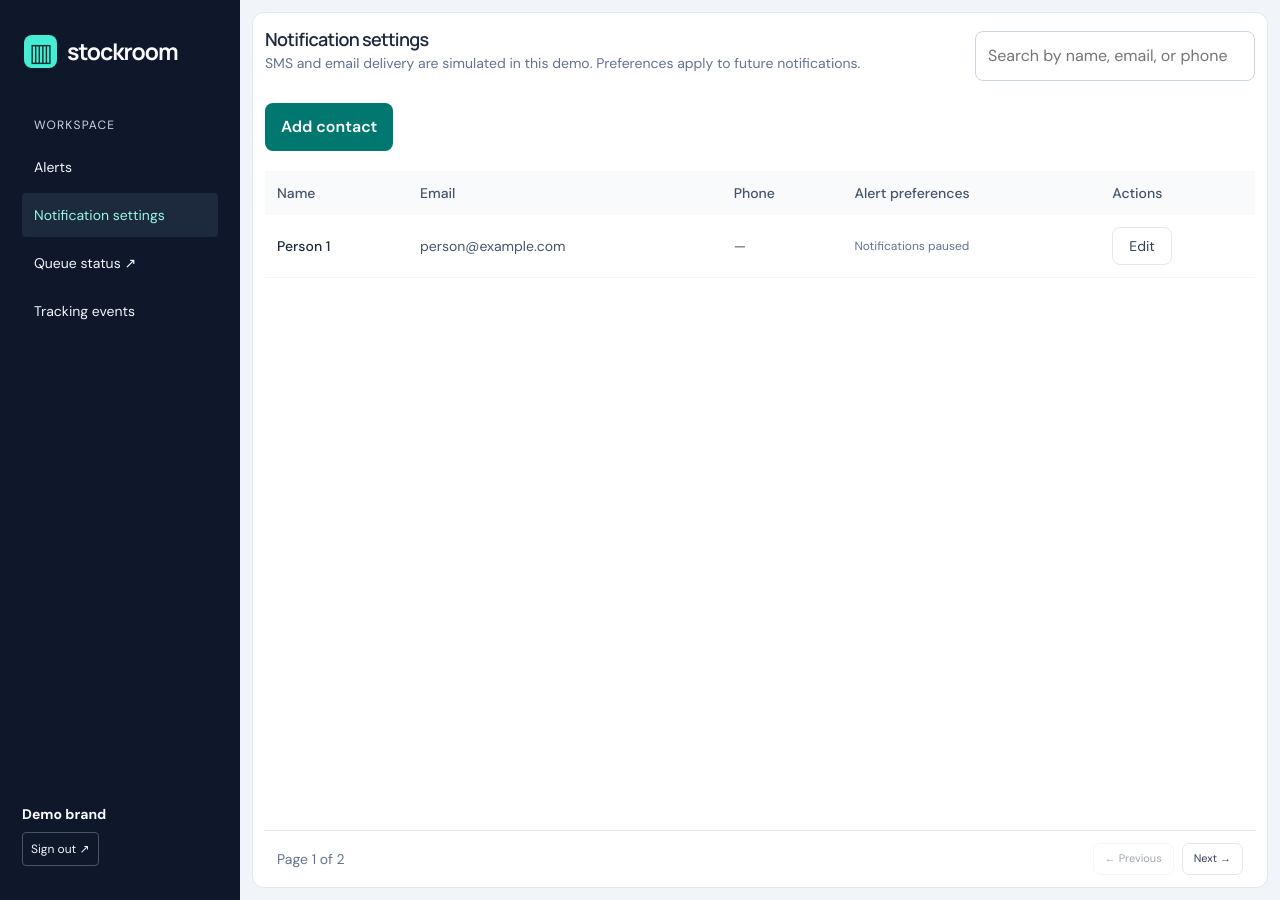
Test: debounces contact search for 500 ms, resets pagination, and clears the filter
Expected: the text "Person 1" is shown, x1=265 y1=215 x2=408 y2=278
Click the button "Next →" at (1212, 859), box x1=1182 y1=843 x2=1243 y2=875
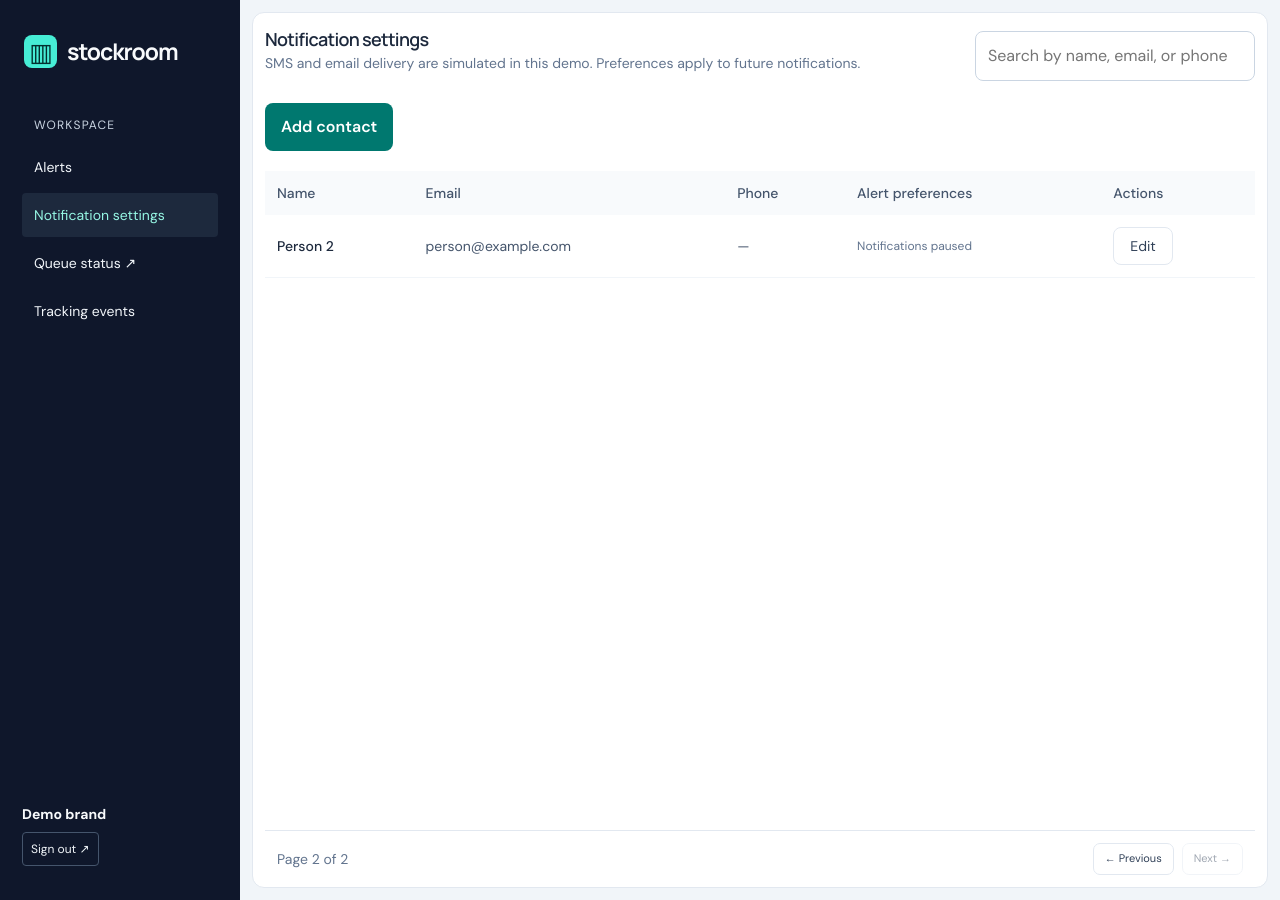
Expected: the text "Person 2" is shown, x1=265 y1=215 x2=414 y2=278
Type "Alice" into the search field named "Search contacts" at (1115, 56), box x1=975 y1=31 x2=1255 y2=81
Wait 499 ms
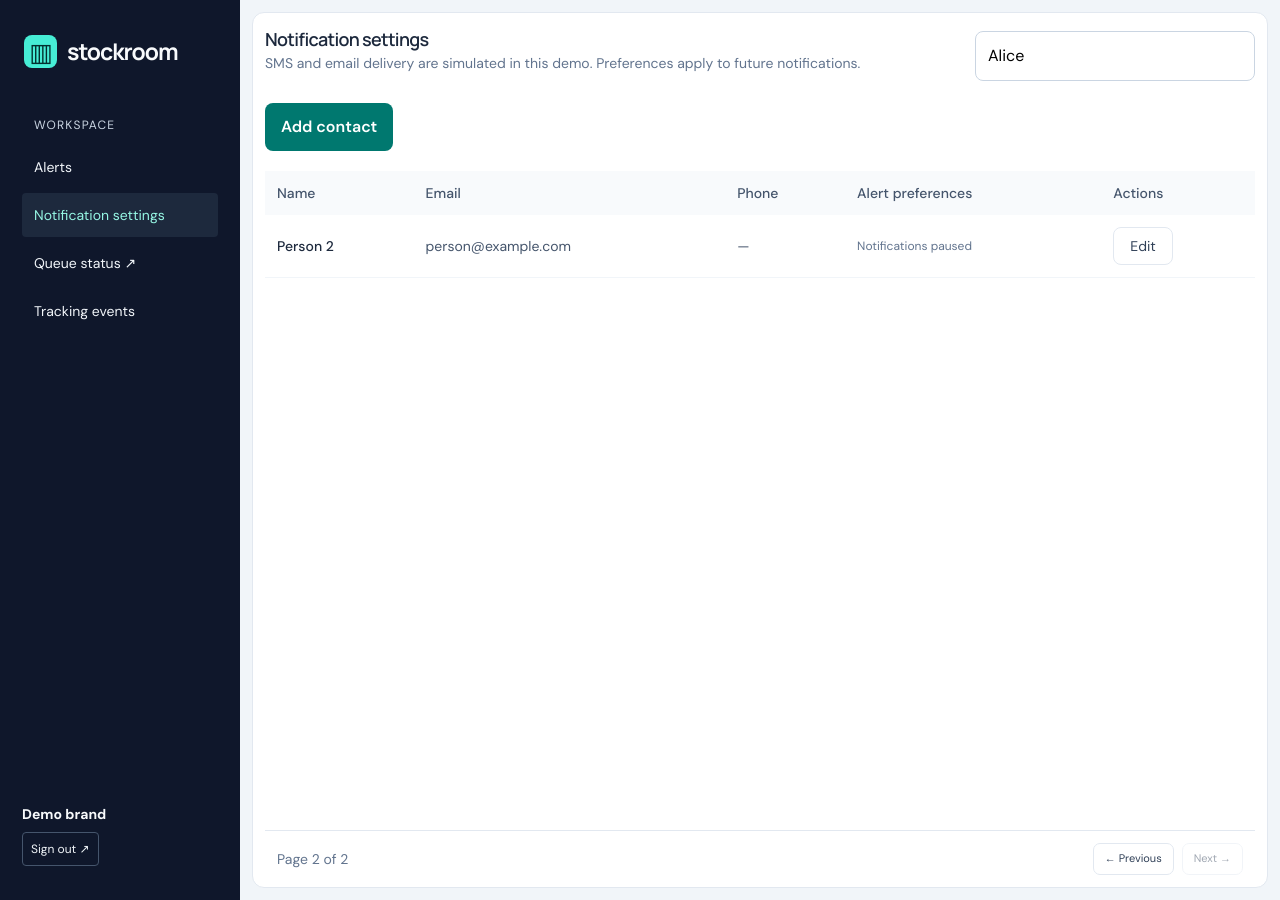
Replace the text in the search field named "Search contacts" with "alice@example.com" at (1115, 56), box x1=975 y1=31 x2=1255 y2=81
Wait 500 ms
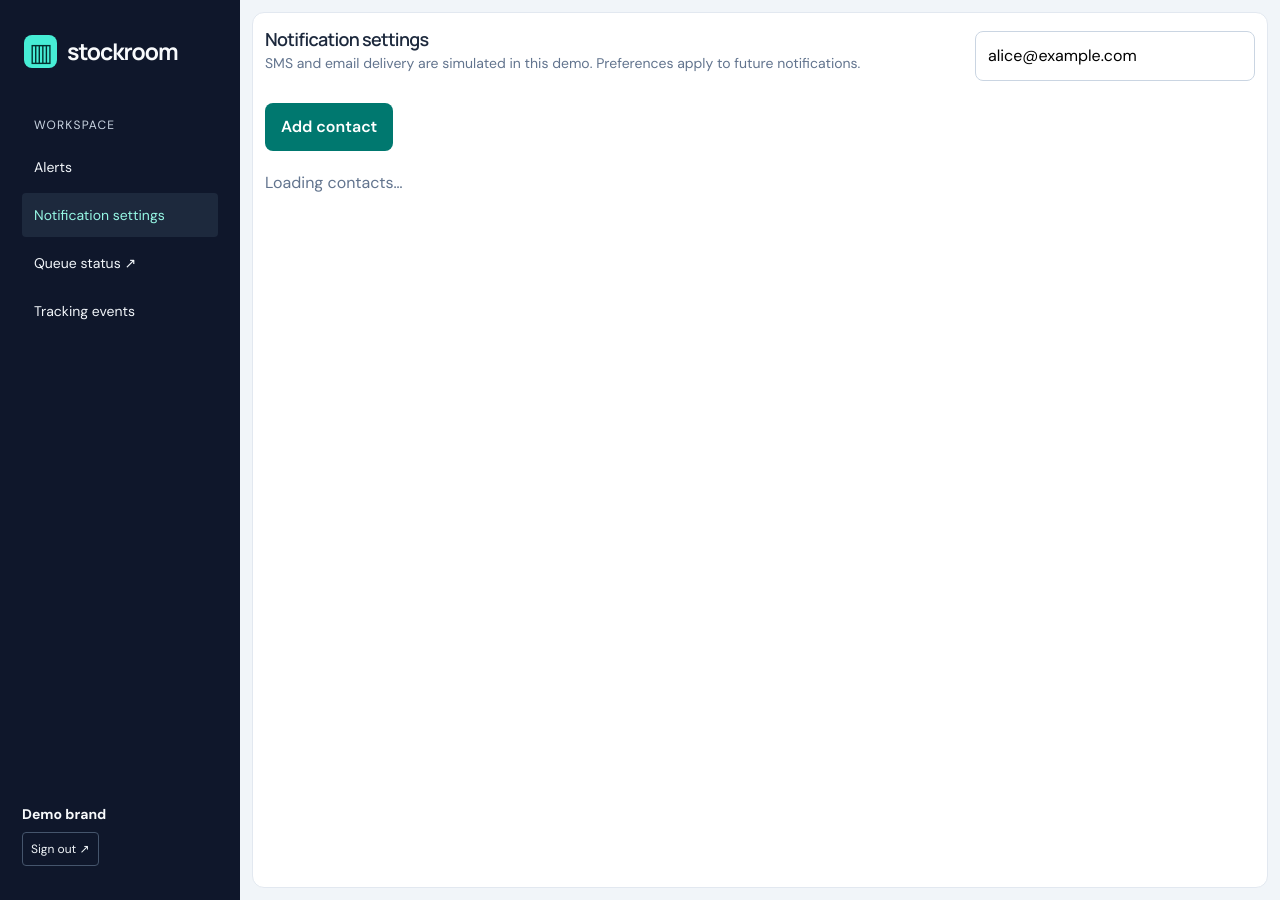
Clear the search field named "Search contacts" at (1115, 56), box x1=975 y1=31 x2=1255 y2=81
Wait 501 ms
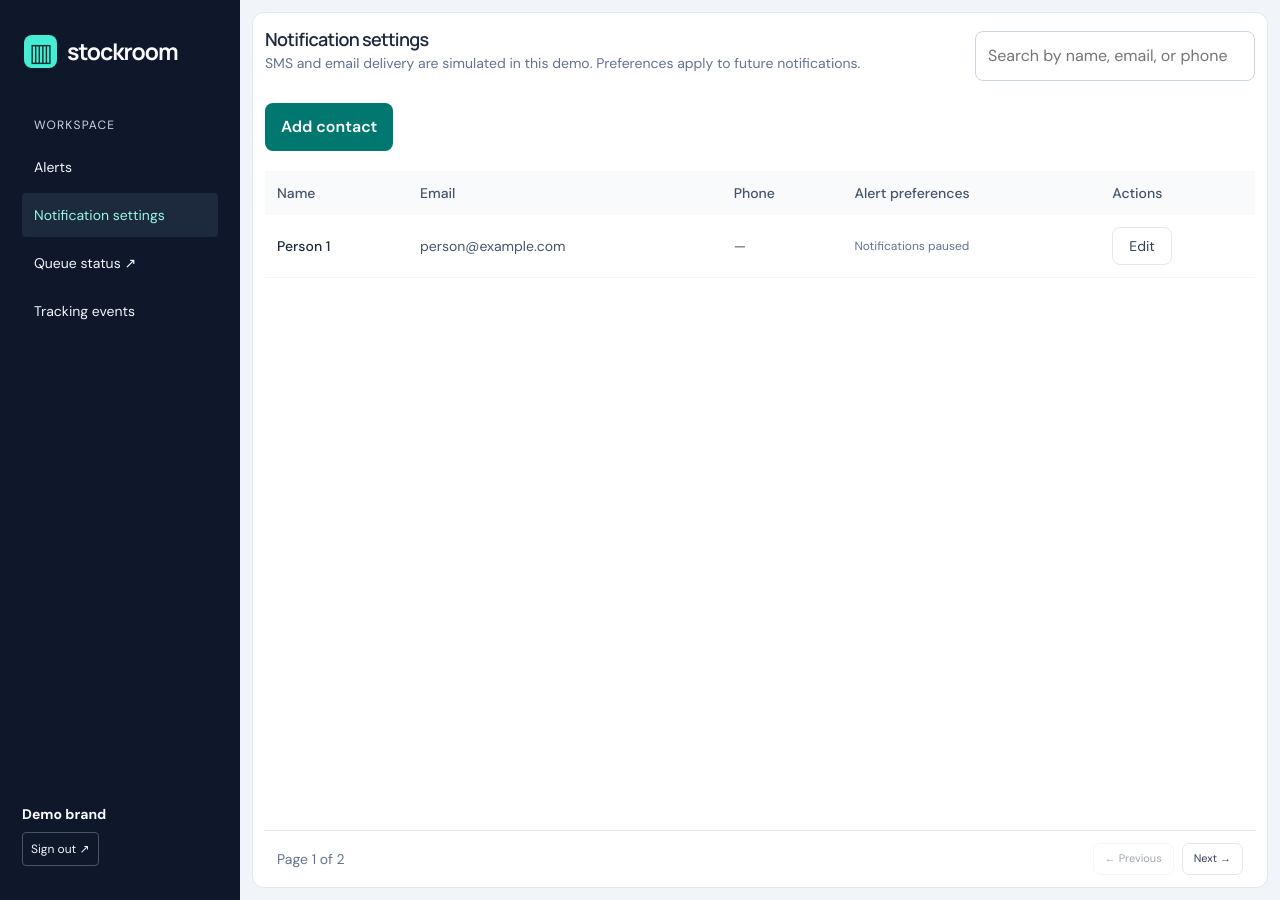
Expected: the text "Person 1" is shown, x1=265 y1=215 x2=408 y2=278
